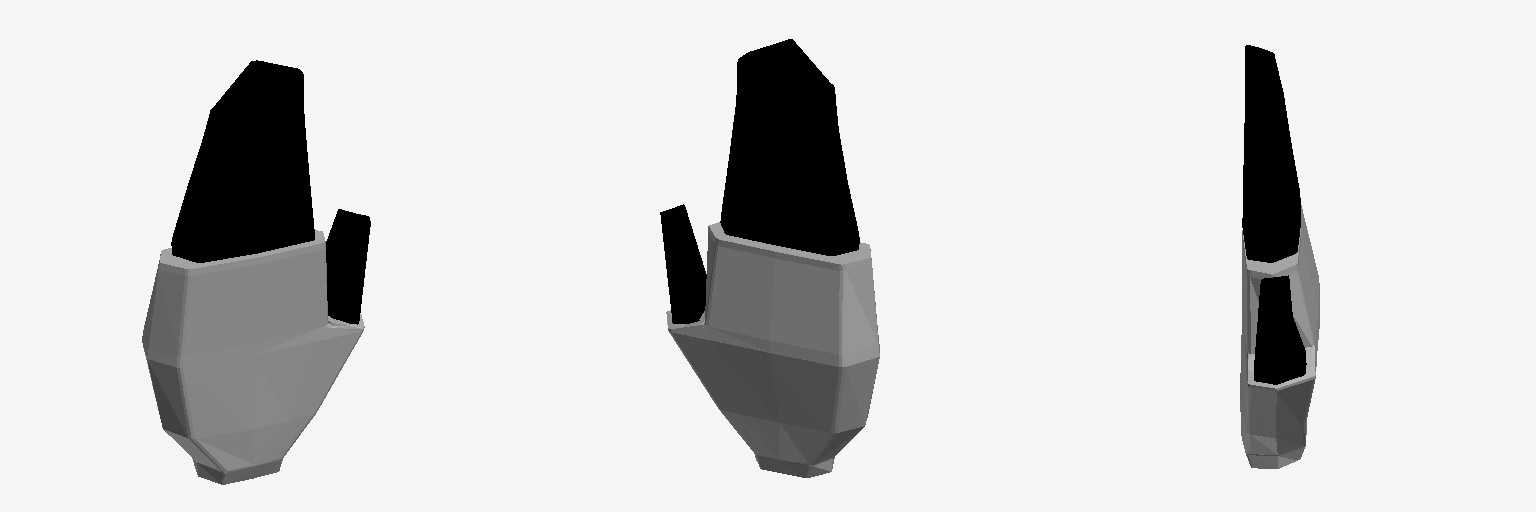
The model's file is Hand_Left.obj.
3 renders of one model, left to right at view 1: azimuth 30°, elevation 25°; view 2: azimuth 150°, elevation 25°; view 3: azimuth 270°, elevation 25°, orthographic.
Visible parts, largest first — view 1: hand_left, finger_left, thumb_finger_left; view 2: hand_left, finger_left, thumb_finger_left; view 3: hand_left, finger_left, thumb_finger_left.
Boxes of the visible parts, box(x1,y1,x2,y2) form: hand_left: box(142, 230, 364, 484); finger_left: box(171, 60, 314, 262); thumb_finger_left: box(326, 209, 370, 324); hand_left: box(666, 222, 879, 477); finger_left: box(720, 39, 859, 255); thumb_finger_left: box(660, 204, 706, 323); hand_left: box(1240, 197, 1319, 468); finger_left: box(1242, 45, 1300, 262); thumb_finger_left: box(1254, 275, 1306, 384).
Size of the model in its own units: 0.5695 by 1.02 by 0.1792.